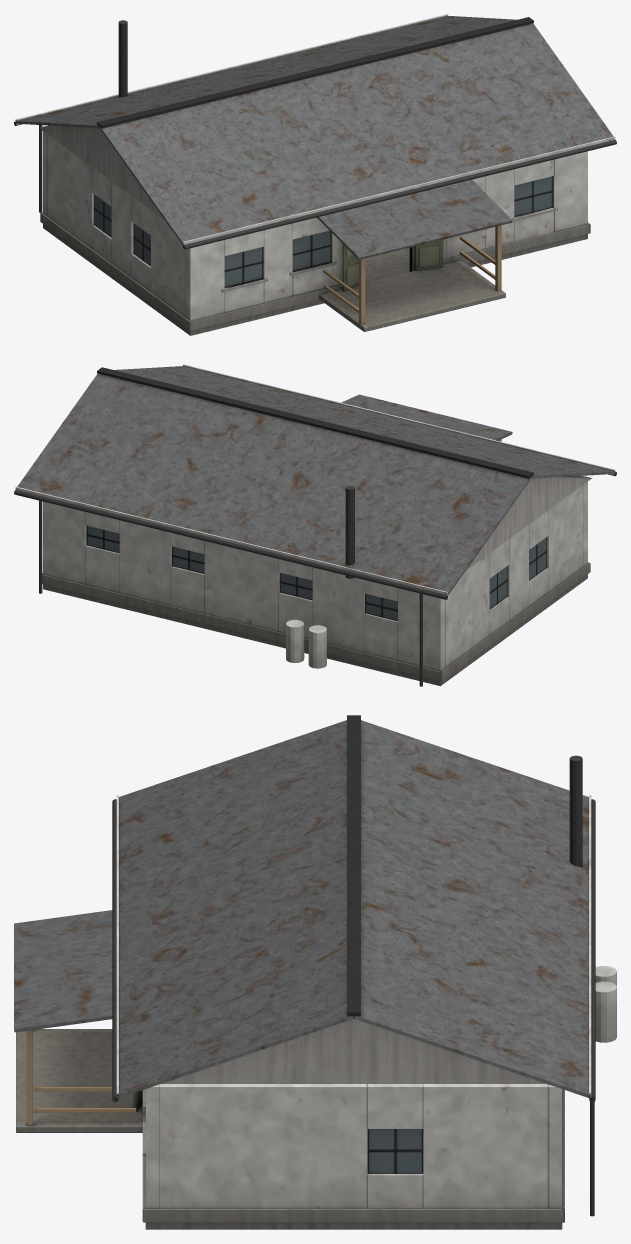
File: bldE.glb
3 views of the same model, one above another, from view 1: azimuth 30°, elevation 25°; view 2: azimuth 150°, elevation 25°; view 3: azimuth 270°, elevation 25° (orthographic). The views are drawn at different scales.
Visible parts, largest first — view 1: BldE_Roof, BldE_Shell; view 2: BldE_Roof, BldE_Shell; view 3: BldE_Roof, BldE_Shell.
Part boxes in pixels (x1,y1,x2,y2): BldE_Roof: (14,14,616,249); BldE_Shell: (39,125,590,335); BldE_Roof: (14,364,616,599); BldE_Shell: (39,394,590,686); BldE_Roof: (112,715,595,1102); BldE_Shell: (14,910,616,1229).
Bounding box in the file's own units: 15.2 × 6.1 × 13.02.
Materials: 3 (3 with a texture image).
